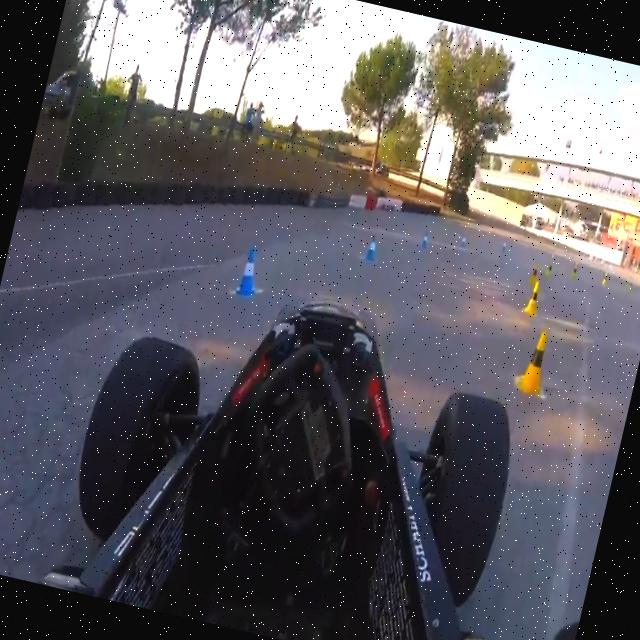blue_cone: (234, 246, 264, 298), (362, 232, 382, 264), (420, 230, 430, 250)
yellow_cone: (513, 326, 556, 398), (523, 280, 544, 316)
